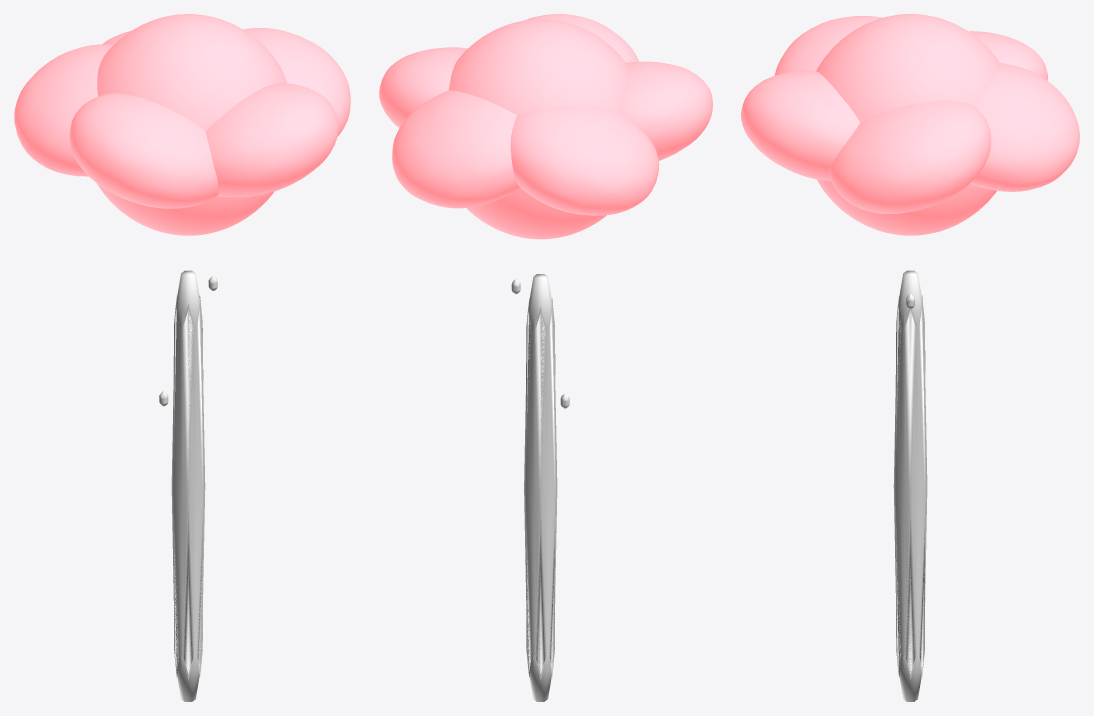
File: plant_flower_rose_v3.glb
3 renders of one model, left to right at view 1: azimuth 30°, elevation 25°; view 2: azimuth 150°, elevation 25°; view 3: azimuth 270°, elevation 25°, orthographic.
Parts seen in each view (by area): view 1: c, pt_3.005, st.006, pt_4.005, pt_2.005, pt_0.005; view 2: c, pt_2.005, st.006, pt_1.005, pt_3.005, pt_0.005, pt_4.005; view 3: c, pt_0.005, st.006, pt_1.005, pt_4.005, pt_3.005, pt_2.005.
Part boxes in pixels (x1,y1,x2,y2): c: [97, 14, 287, 235]; pt_3.005: [69, 93, 218, 208]; st.006: [171, 270, 205, 701]; pt_4.005: [205, 83, 338, 197]; pt_2.005: [14, 44, 113, 176]; pt_0.005: [243, 28, 350, 136]; c: [448, 19, 628, 239]; pt_2.005: [510, 105, 659, 215]; st.006: [524, 274, 557, 701]; pt_1.005: [392, 90, 520, 208]; pt_3.005: [617, 61, 712, 160]; pt_0.005: [379, 47, 467, 127]; pt_4.005: [524, 14, 638, 62]; c: [816, 14, 1000, 235]; pt_0.005: [829, 100, 991, 213]; st.006: [893, 270, 927, 701]; pt_1.005: [970, 63, 1079, 191]; pt_4.005: [741, 71, 860, 181]; pt_3.005: [774, 16, 882, 75]; pt_2.005: [968, 31, 1047, 80].
Bounding box in the file's own units: 0.2911 × 0.6545 × 0.2974.
